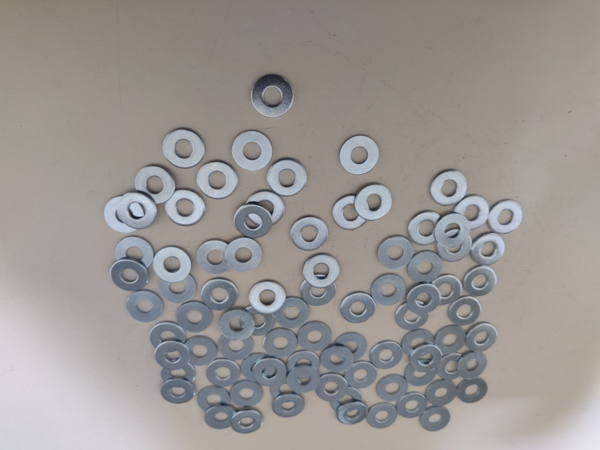circle: (252, 75, 294, 118), (339, 134, 381, 176), (232, 129, 273, 171), (135, 165, 177, 205), (164, 129, 205, 168), (197, 162, 239, 200), (245, 190, 286, 228), (105, 196, 145, 234), (166, 189, 205, 227), (196, 238, 234, 275), (268, 160, 307, 196), (116, 236, 155, 272), (290, 216, 330, 251), (356, 184, 393, 221), (333, 194, 370, 231), (430, 170, 468, 206), (153, 247, 191, 283), (303, 253, 340, 289), (121, 193, 158, 229), (225, 237, 262, 273), (249, 280, 287, 315), (235, 205, 273, 239), (111, 259, 149, 293), (159, 270, 197, 304), (202, 278, 240, 312), (126, 289, 164, 323), (435, 213, 470, 248), (488, 200, 524, 234), (436, 229, 472, 263), (408, 213, 445, 246), (150, 320, 187, 353), (301, 273, 336, 307), (378, 236, 414, 269), (241, 303, 277, 336), (471, 232, 505, 266), (274, 297, 310, 329), (297, 320, 333, 352), (159, 359, 197, 389), (456, 196, 489, 230), (177, 302, 213, 333), (155, 340, 192, 370), (241, 352, 278, 382), (372, 274, 406, 306), (409, 251, 443, 283), (396, 299, 430, 331), (462, 266, 497, 297), (340, 293, 376, 323), (447, 296, 482, 326), (264, 329, 299, 359), (219, 332, 255, 361), (429, 274, 462, 305), (466, 322, 499, 353), (221, 310, 255, 340), (335, 332, 369, 362), (286, 351, 321, 380), (253, 358, 288, 387), (183, 337, 218, 366), (320, 345, 356, 373), (410, 344, 443, 374), (345, 361, 378, 391), (407, 285, 441, 314), (316, 372, 350, 401), (328, 386, 363, 414), (206, 359, 241, 387), (435, 325, 467, 355), (287, 366, 322, 393), (456, 351, 488, 380), (437, 354, 470, 382), (376, 374, 409, 402), (231, 380, 264, 408), (270, 375, 303, 403), (370, 342, 403, 370), (402, 329, 433, 358), (456, 377, 489, 404), (419, 406, 452, 433), (198, 386, 231, 413), (405, 360, 437, 387), (231, 409, 264, 435), (162, 379, 196, 404), (204, 405, 237, 430), (272, 394, 305, 419), (427, 380, 458, 406), (397, 393, 428, 419), (368, 403, 399, 429), (336, 400, 368, 425)
